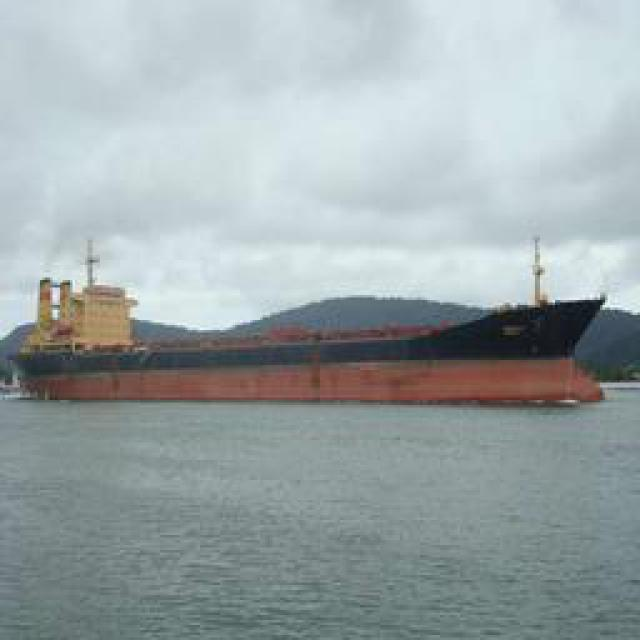Ship: (1, 261, 616, 396)
